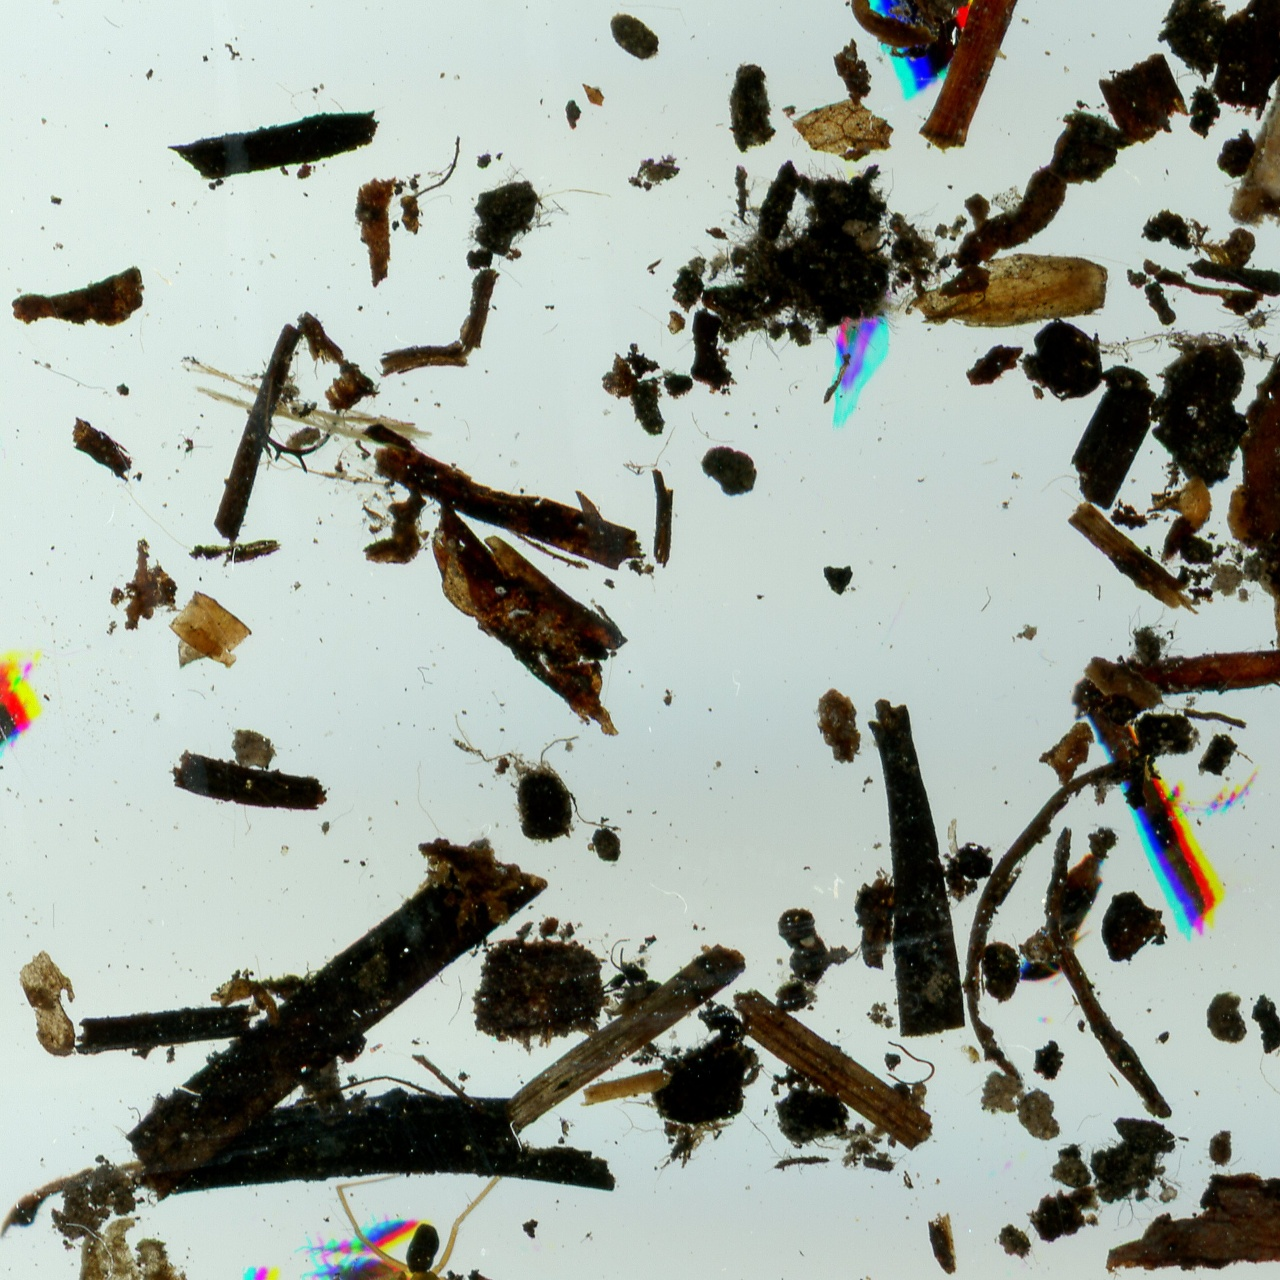arthropod: (330, 1173, 533, 1280), (292, 1196, 436, 1280), (300, 1235, 397, 1280), (952, 1040, 985, 1068)
